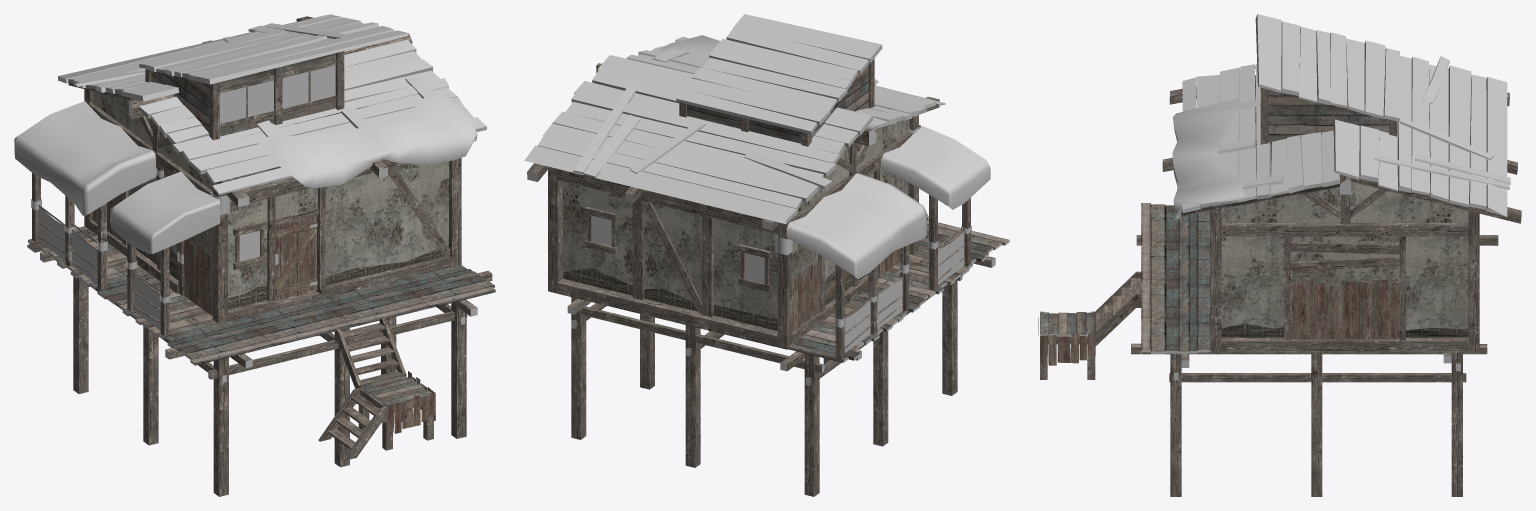
Rendered from House5_LOD1.fbx.
3 renders of one model, left to right at view 1: azimuth 30°, elevation 25°; view 2: azimuth 150°, elevation 25°; view 3: azimuth 270°, elevation 25°, orthographic. The views are drawn at different scales.
Visible parts, largest first — view 1: Base, Stairs, Doors; view 2: Base; view 3: Base, Stairs.
Boxes of the visible parts, x1,y1,x2,y2 form: Base: [14, 14, 495, 496]; Stairs: [318, 317, 435, 460]; Doors: [275, 216, 317, 299]; Base: [524, 14, 1009, 496]; Base: [1131, 14, 1521, 496]; Stairs: [1038, 271, 1141, 379].
Bounding box in the file's own units: 10.19 × 11.14 × 12.89.
